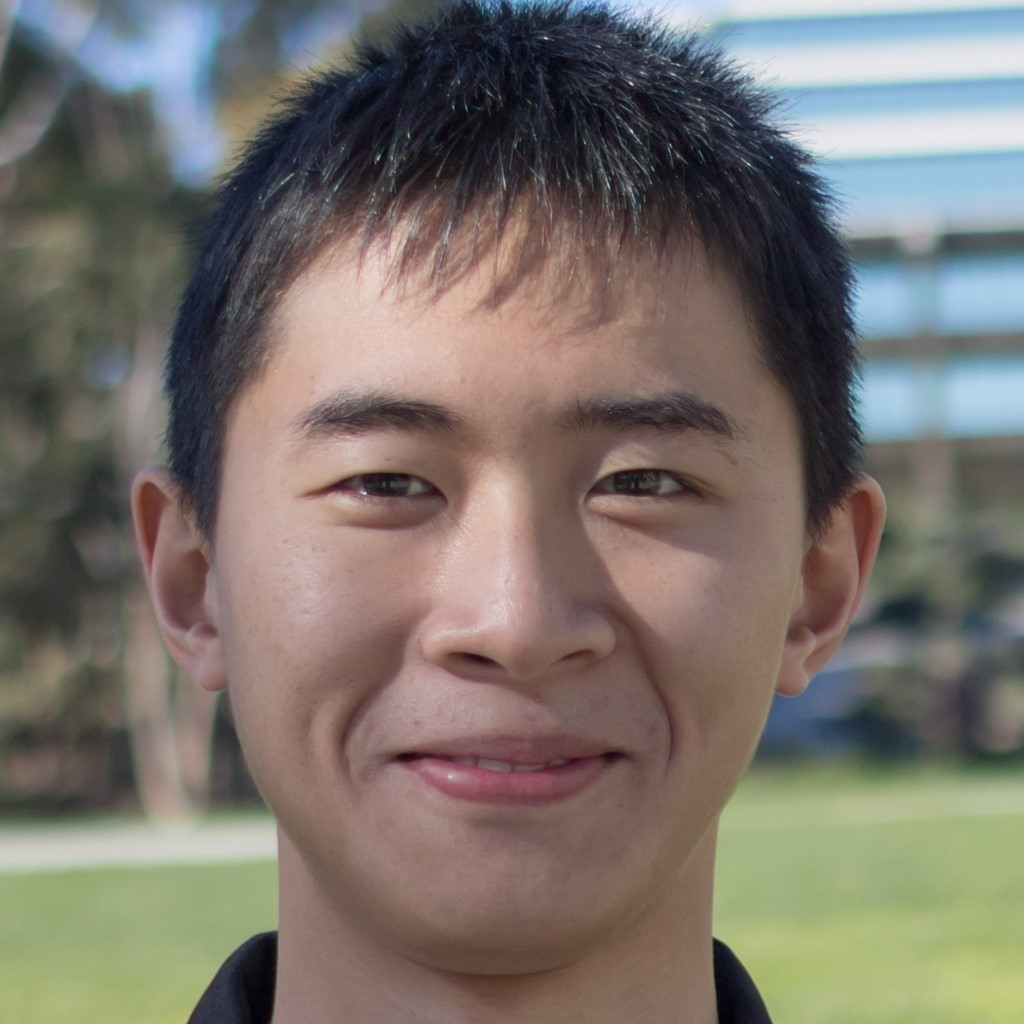sin_mascara: (174, 39, 836, 980)
